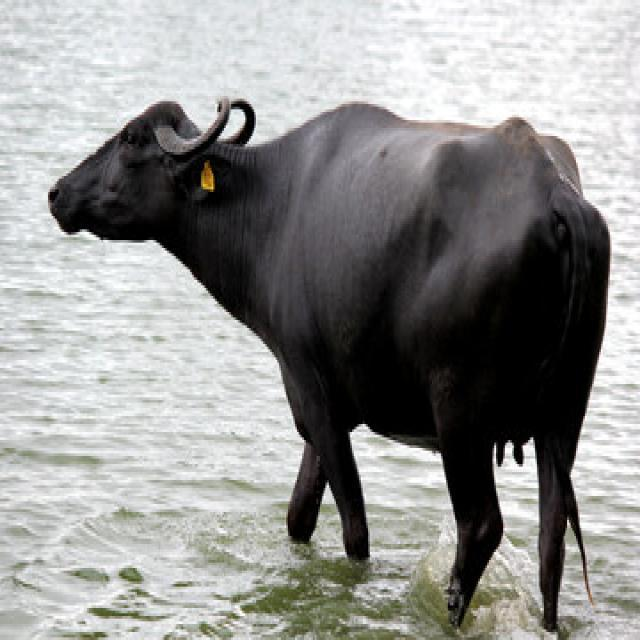Buffalo: (45, 88, 612, 635)
